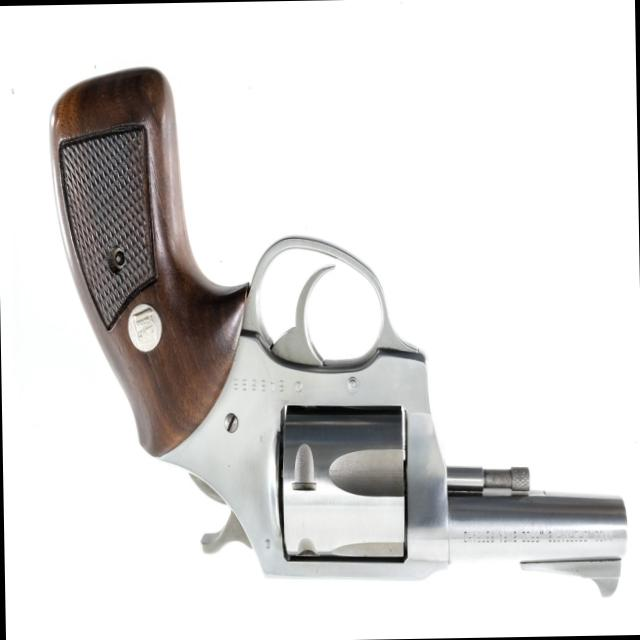Gun: (27, 37, 640, 640)
